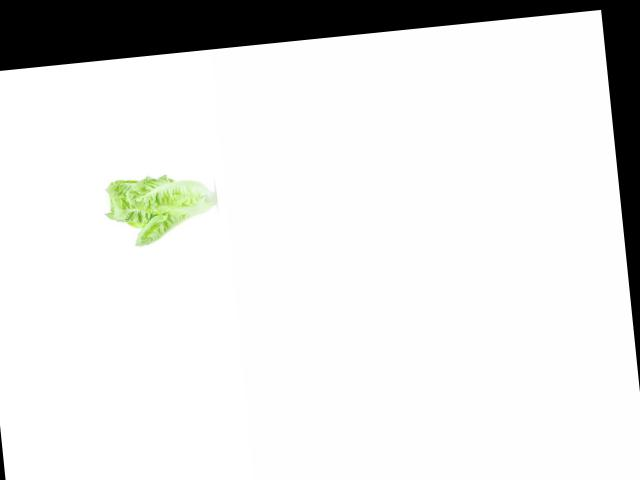lettuce: (100, 165, 216, 250)
